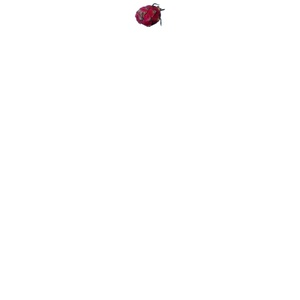pitaia: (135, 4, 164, 27)
